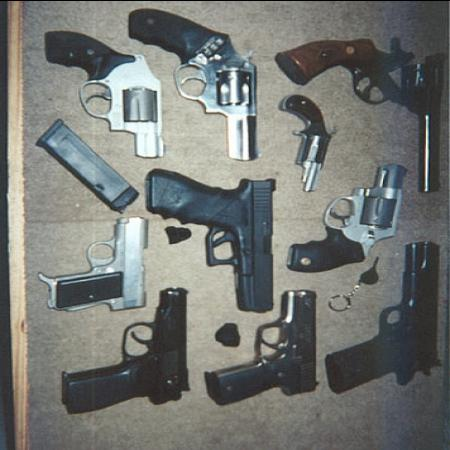Pistol: (276, 26, 442, 190), (129, 5, 258, 160), (149, 165, 277, 311), (326, 238, 442, 394), (64, 284, 193, 413), (46, 26, 166, 158), (288, 162, 410, 272), (205, 289, 321, 404), (42, 214, 150, 310), (279, 91, 339, 192)
